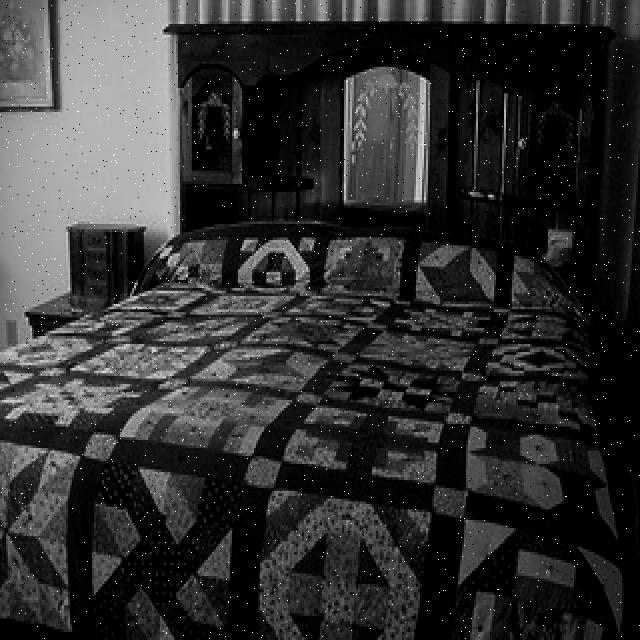bed: (0, 221, 622, 640)
